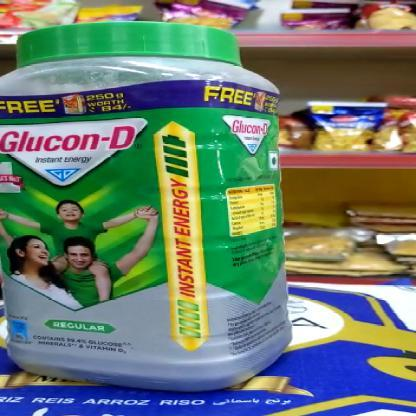Glucon D Regular 2-KG: (2, 21, 300, 379)
